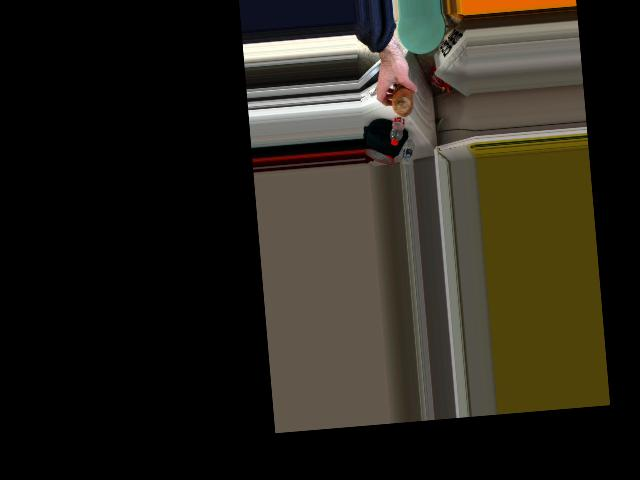sweet_potato: (384, 78, 417, 117)
